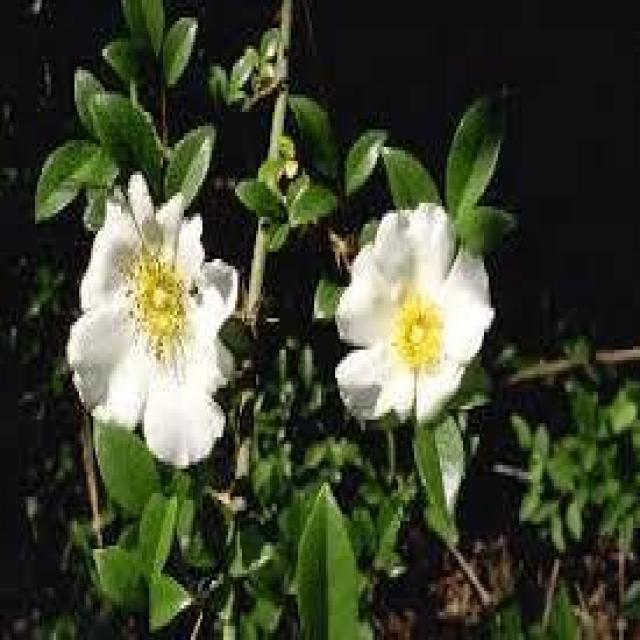organic waste: (64, 180, 234, 460), (338, 203, 494, 420)
